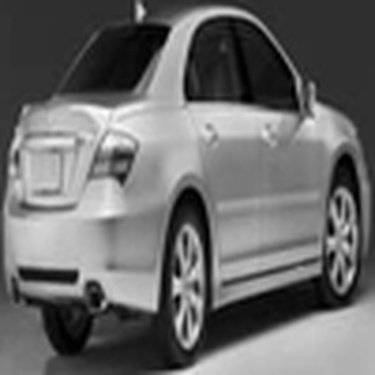car: (9, 16, 371, 350)
